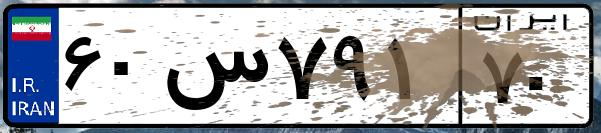0: (525, 38, 570, 115), (110, 28, 158, 98)
1: (385, 28, 445, 110)
6: (57, 26, 110, 100)
7: (270, 28, 330, 110), (475, 38, 525, 113)
9: (330, 28, 385, 110)
س: (158, 20, 270, 120)
